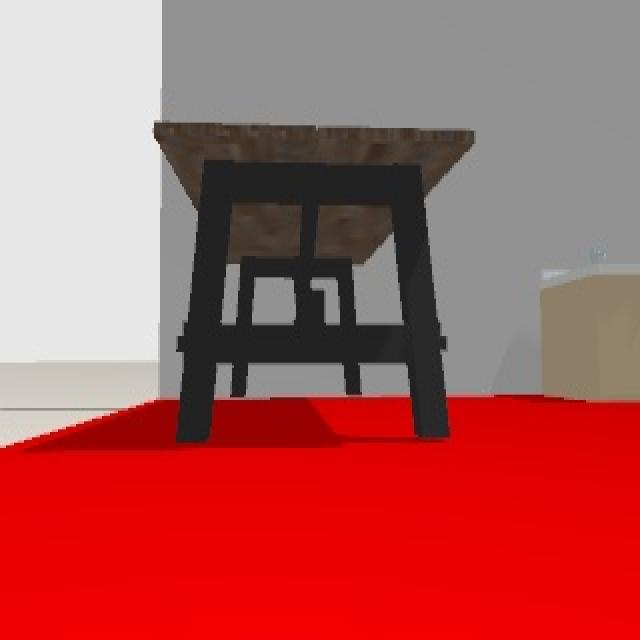dining: (154, 120, 479, 443)
